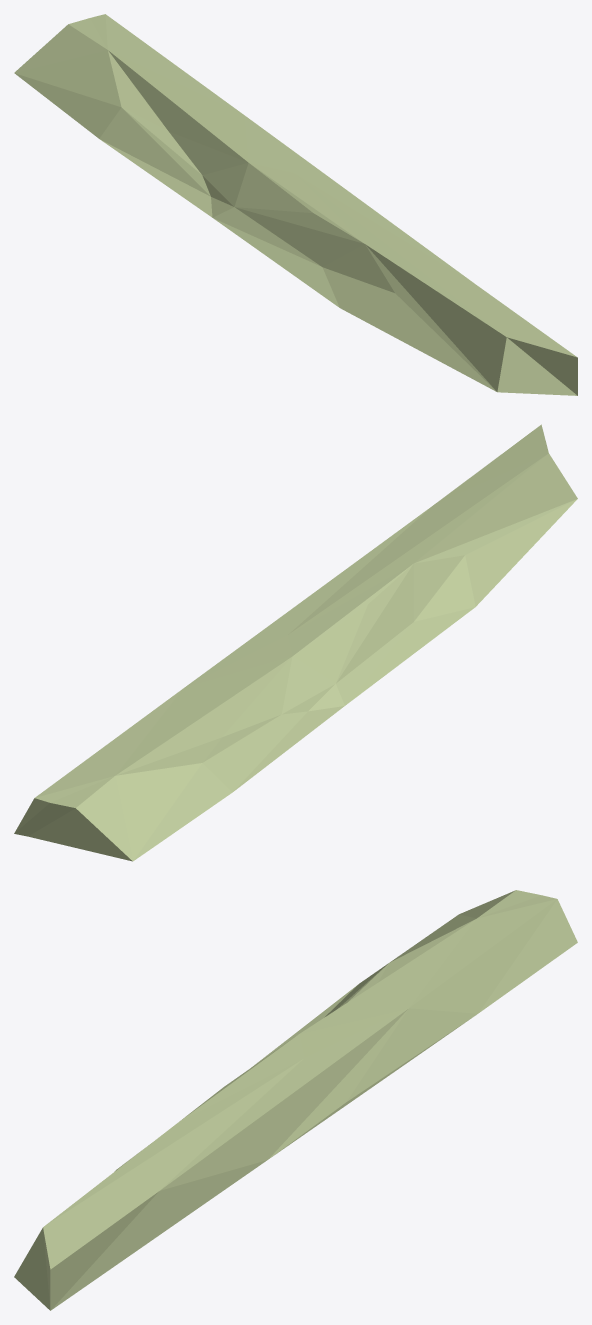
Rendered from hill_1.gltf.
3 views of the same model, one above another, from view 1: azimuth 30°, elevation 25°; view 2: azimuth 150°, elevation 25°; view 3: azimuth 330°, elevation 25° (orthographic). The views are drawn at different scales.
Visible parts, largest first — view 1: hill; view 2: hill; view 3: hill.
Part boxes in pixels (x1,y1,x2,y2): hill: [14, 14, 577, 395]; hill: [14, 424, 577, 861]; hill: [14, 890, 577, 1310].
Bounding box in the file's own units: 1.76 × 0.6651 × 12.74.
